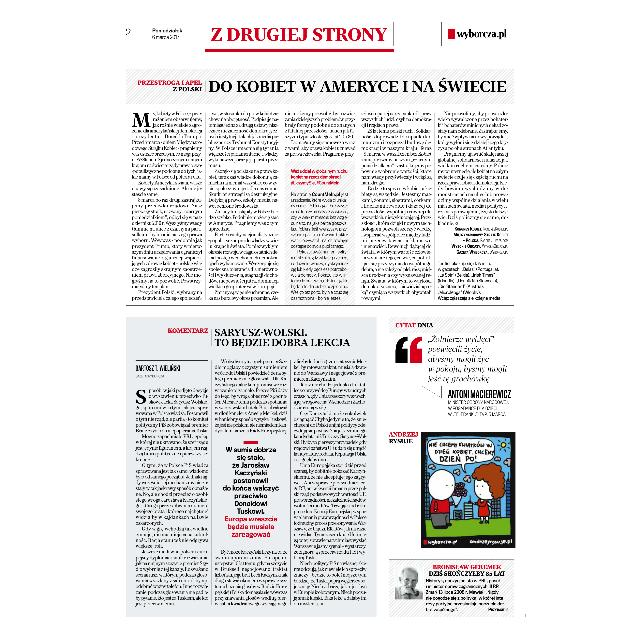article: (125, 68, 515, 306), (127, 317, 376, 615)
